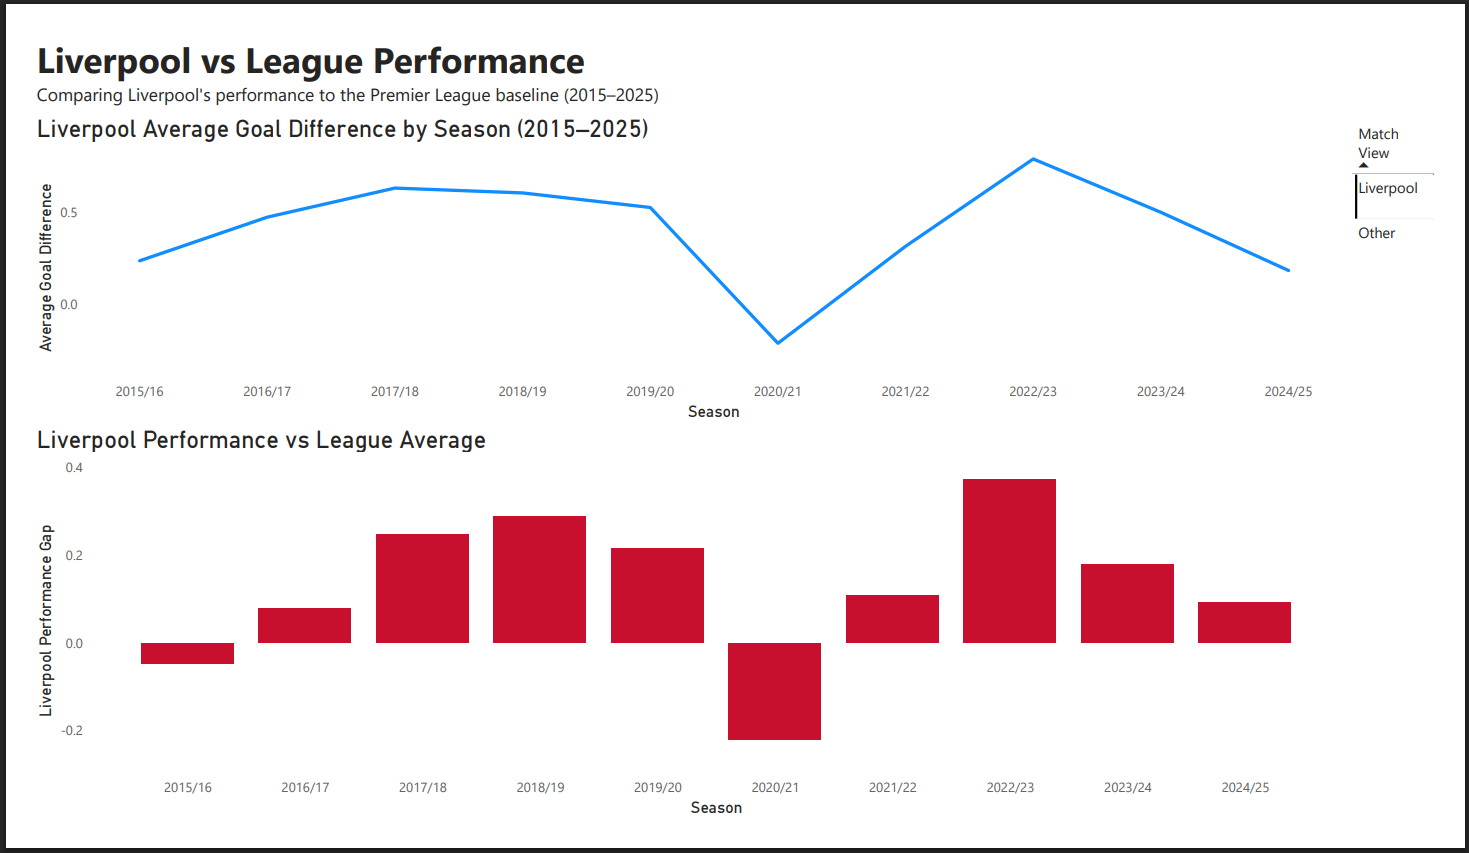

Layout of this report page (visuals, bound fields, positions):
{"tool":"powerbi","page":{"name":"Liverpool vs League Performance","canvas":[1280,720],"ordinal":1},"visuals":[{"type":"lineChart","title":"Liverpool Average Goal Difference by Season (2015–2025)","fields":{"Category":["premier_league_matches_clean.season_label"],"Y":["Avg(premier_league_matches_clean.goal_diff)"]},"box":[0,77.8,1195.5,282.3],"z":0},{"type":"tableEx","fields":{"Values":["premier_league_matches_clean.Liverpool Match"]},"box":[1195.5,77.8,84.5,282.3],"z":1000},{"type":"textbox","box":[0,0,590.5,77.8],"z":2000},{"type":"clusteredColumnChart","title":"Liverpool Performance vs League Average","fields":{"Category":["premier_league_matches_clean.season_label"],"Y":["premier_league_matches_clean.Liverpool Performance Gap"]},"box":[0,360.1,1195.5,360.1],"z":3000}]}

Visuals, with their boxes on the page's 1280x720 design canvas (x1, y1, x2, y2). These are canvas units, not pixel positions in the 1469x853 screenshot, which may show the page scaled, cropped or inside an application window:
"Liverpool Average Goal Difference by Season (2015–2025)" lineChart: [0, 78, 1196, 360]
tableEx - premier_league_matches_clean.Liverpool Match: [1196, 78, 1280, 360]
textbox: [0, 0, 590, 78]
"Liverpool Performance vs League Average" clusteredColumnChart: [0, 360, 1196, 720]
